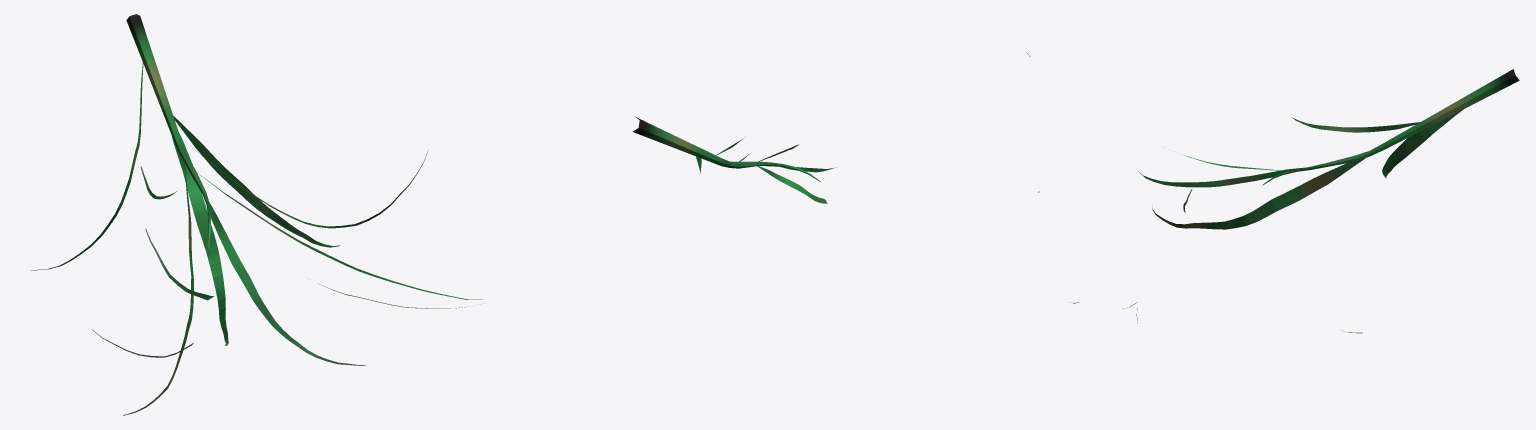
The model's file is greener-grass-tuft.glb.
3 renders of one model, left to right at view 1: azimuth 30°, elevation 25°; view 2: azimuth 150°, elevation 25°; view 3: azimuth 270°, elevation 25°, orthographic. The views are drawn at different scales.
Visible parts, largest first — view 1: Object.1; view 2: Object.1; view 3: Object.1.
Boxes of the visible parts, x1,y1,x2,y2 form: Object.1: (31,14,482,415); Object.1: (633,51,1039,203); Object.1: (1070,69,1519,333).
Size of the model in its own units: 532 by 391 by 500.
1 material, 1 textured.
